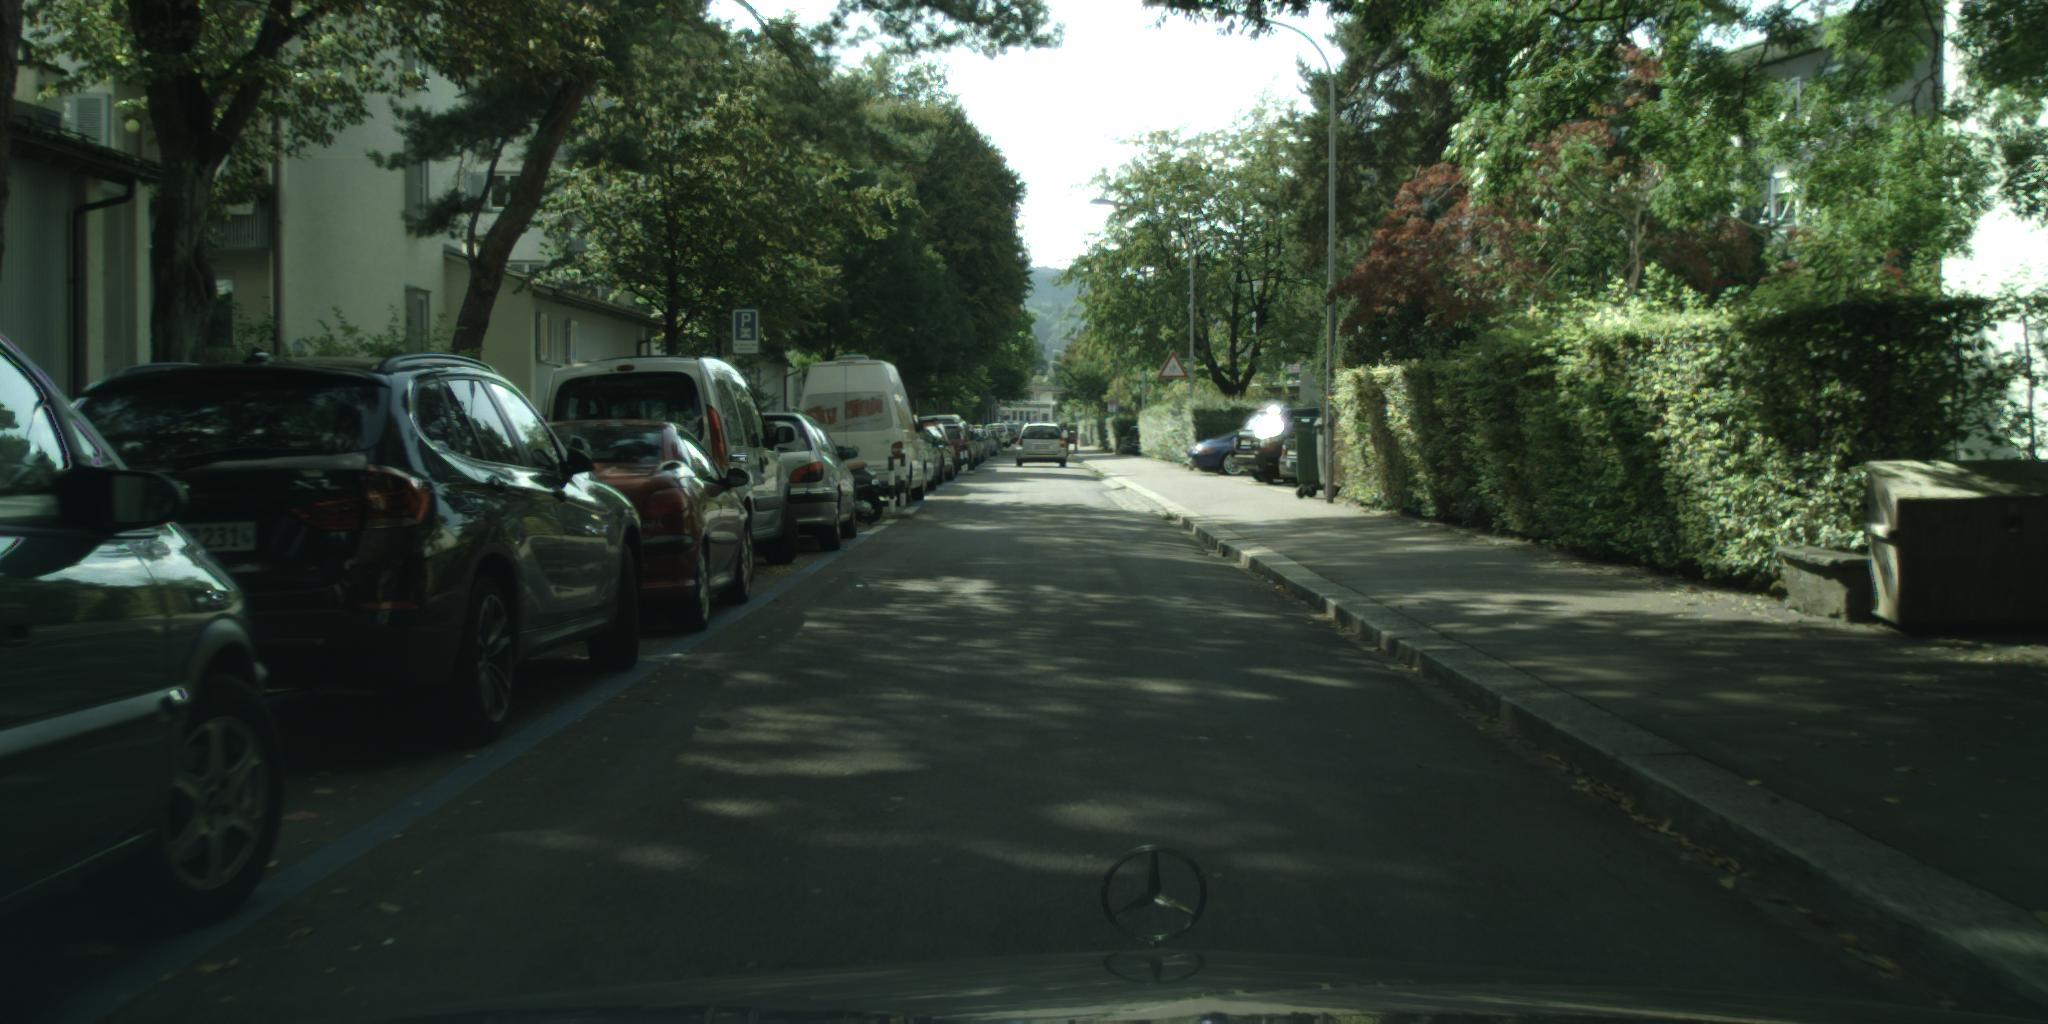car: (64, 355, 644, 750), (1, 334, 290, 940), (543, 357, 798, 567), (533, 419, 755, 637), (798, 358, 934, 505), (758, 411, 861, 554), (1236, 410, 1320, 485), (1189, 421, 1253, 478), (916, 424, 957, 490), (936, 424, 982, 474), (1017, 424, 1068, 469), (1280, 432, 1304, 483), (921, 415, 972, 434), (968, 428, 993, 462)
motorcycle: (835, 448, 884, 528)
